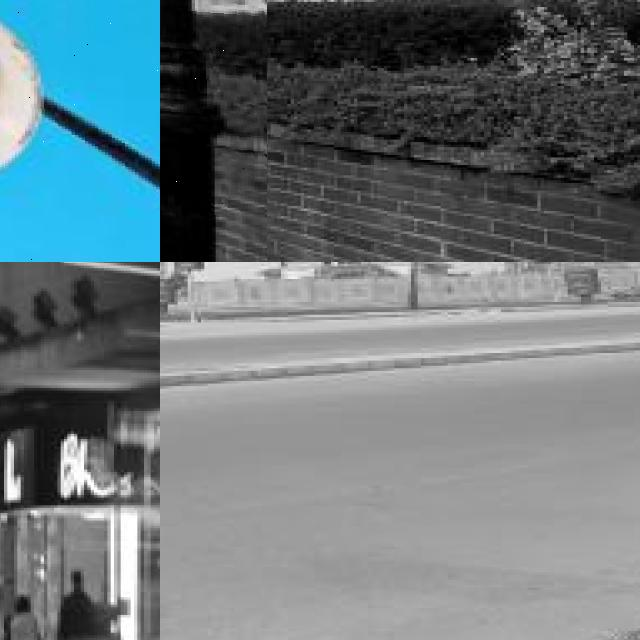street light: (0, 0, 160, 262), (160, 0, 267, 262), (511, 262, 562, 299), (177, 262, 206, 321), (507, 262, 531, 298)
